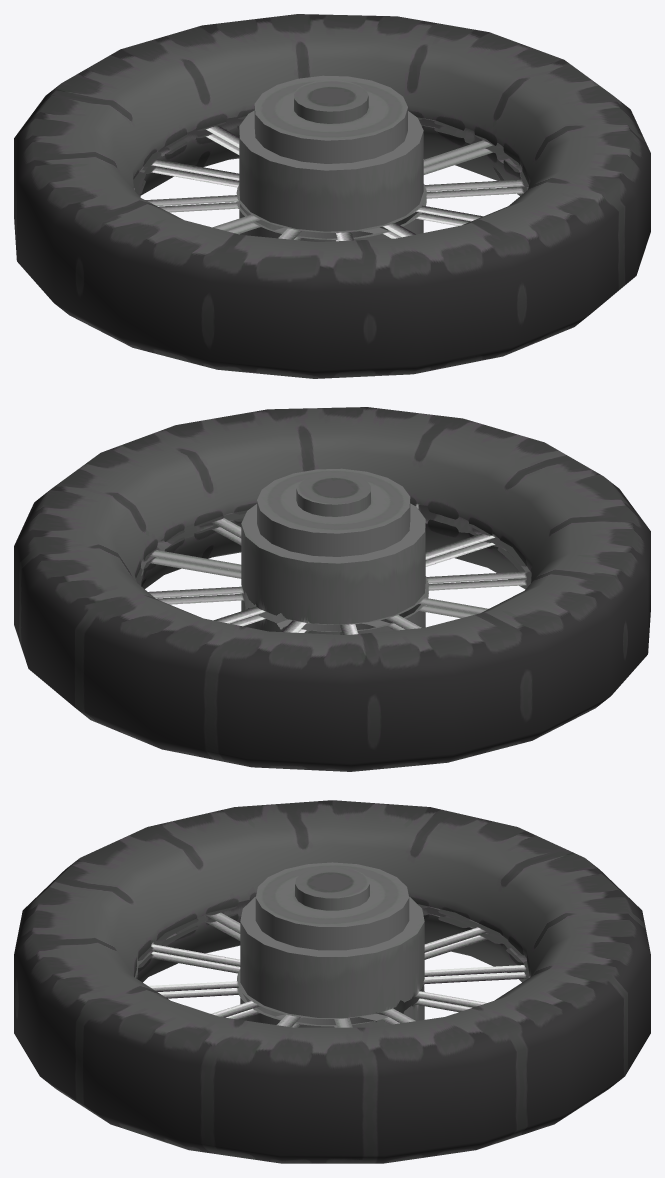
The model's file is Wheel_Relic.fbx.
3 views of the same model, one above another, from view 1: azimuth 30°, elevation 25°; view 2: azimuth 150°, elevation 25°; view 3: azimuth 270°, elevation 25° (orthographic).
Visible parts, largest first — view 1: Wheel (1); view 2: Wheel (1); view 3: Wheel (1).
Boxes of the visible parts, box(x1,y1,x2,y2) form: Wheel (1): box(14, 14, 650, 378); Wheel (1): box(14, 407, 650, 771); Wheel (1): box(14, 800, 650, 1163).
Bounding box in the file's own units: 1.61 × 0.5609 × 1.62.
Materials: 1 (1 with a texture image).
